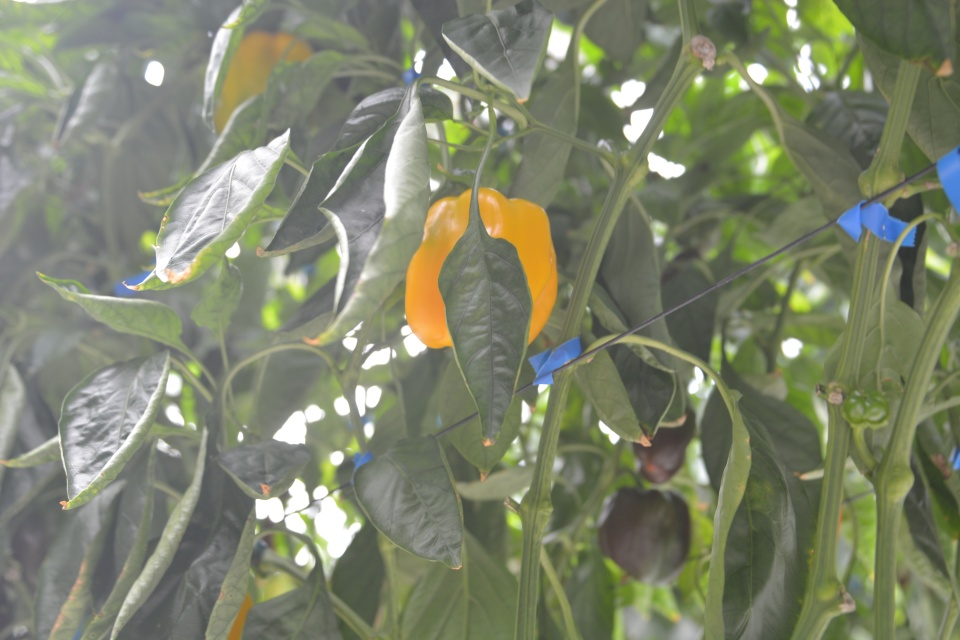fruit: (404, 187, 560, 350), (212, 28, 315, 137), (596, 482, 693, 587), (631, 404, 698, 484)
